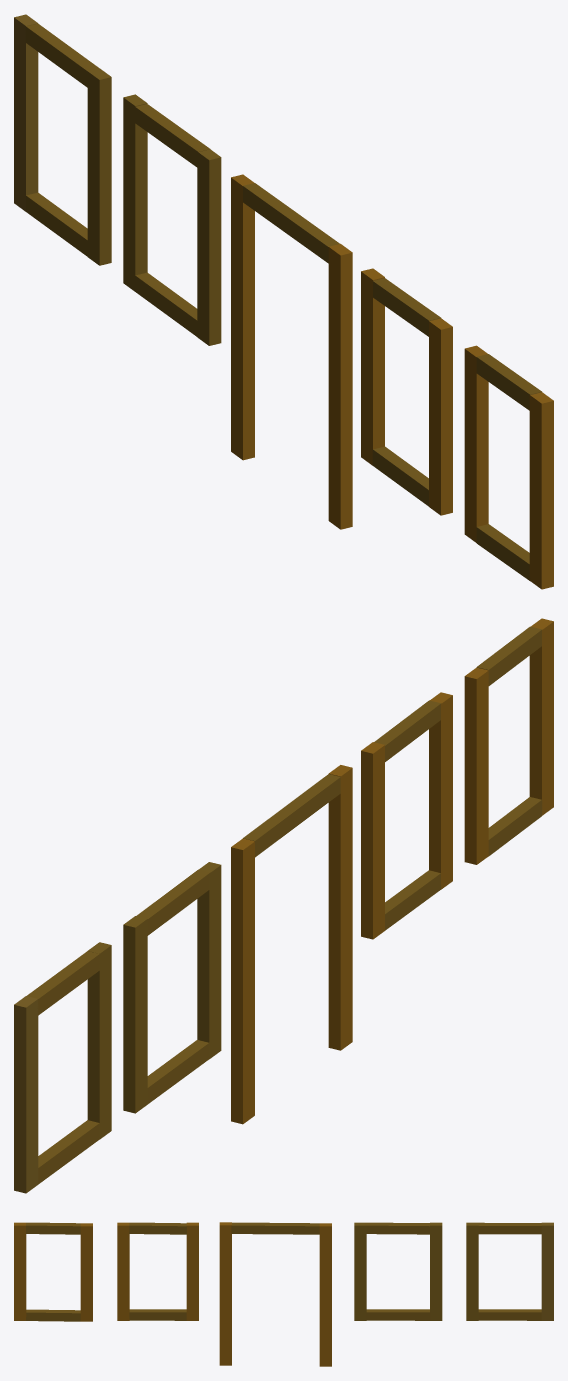
Rendered from enfeite_janela.obj.
The picture shows the model from 3 angles, top to bottom: view 1: azimuth 30°, elevation 25°; view 2: azimuth 150°, elevation 25°; view 3: azimuth 270°, elevation 25°; orthographic projection. The views are drawn at different scales.
Visible parts, largest first — view 1: Cubo.018_Cubo.022, Cubo.015_Cubo.019, Cubo.016_Cubo.020, Cubo.010_Cubo.013, Cubo.011_Cubo.015; view 2: Cubo.018_Cubo.022, Cubo.015_Cubo.019, Cubo.016_Cubo.020, Cubo.010_Cubo.013, Cubo.011_Cubo.015; view 3: Cubo.018_Cubo.022, Cubo.015_Cubo.019, Cubo.016_Cubo.020, Cubo.011_Cubo.015, Cubo.010_Cubo.013.
Boxes of the visible parts, left/top/right/bottom form: Cubo.018_Cubo.022: left=231, top=174, right=352, bottom=529; Cubo.015_Cubo.019: left=123, top=94, right=221, bottom=345; Cubo.016_Cubo.020: left=14, top=14, right=111, bottom=265; Cubo.010_Cubo.013: left=464, top=345, right=553, bottom=589; Cubo.011_Cubo.015: left=361, top=268, right=452, bottom=515; Cubo.018_Cubo.022: left=231, top=765, right=352, bottom=1124; Cubo.015_Cubo.019: left=123, top=862, right=221, bottom=1113; Cubo.016_Cubo.020: left=14, top=942, right=111, bottom=1193; Cubo.010_Cubo.013: left=464, top=618, right=553, bottom=864; Cubo.011_Cubo.015: left=361, top=692, right=452, bottom=939; Cubo.018_Cubo.022: left=219, top=1222, right=331, bottom=1366; Cubo.015_Cubo.019: left=354, top=1222, right=442, bottom=1320; Cubo.016_Cubo.020: left=466, top=1222, right=553, bottom=1320; Cubo.011_Cubo.015: left=117, top=1222, right=198, bottom=1320; Cubo.010_Cubo.013: left=14, top=1222, right=92, bottom=1321.
Bounding box in the file's own units: 0.1238 × 2.69 × 9.3.
